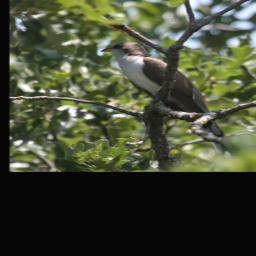Cuckoo: (99, 41, 241, 156)
